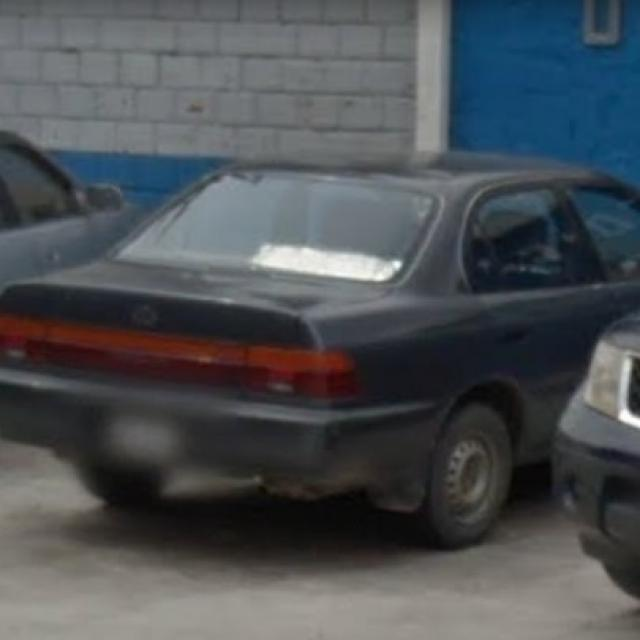Car: (4, 146, 640, 540)
